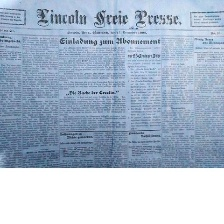news_paper: (0, 0, 224, 167)
